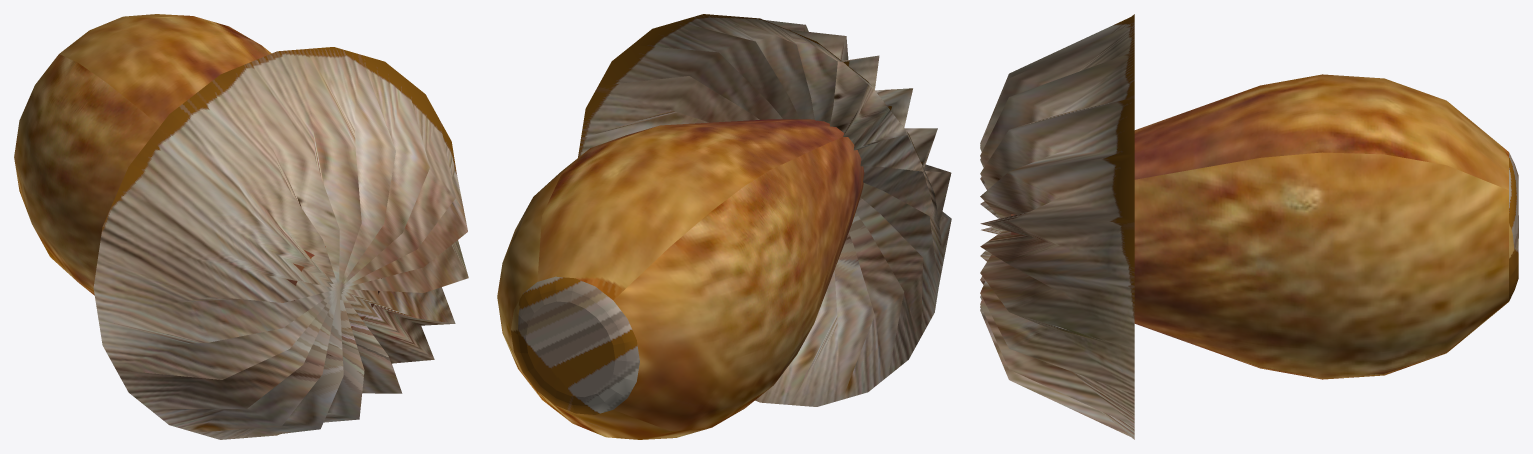
3 renders of one model, left to right at view 1: azimuth 30°, elevation 25°; view 2: azimuth 150°, elevation 25°; view 3: azimuth 270°, elevation 25°, orthographic.
Bounding box in the file's own units: 0.5598 × 0.5598 × 0.7028.
